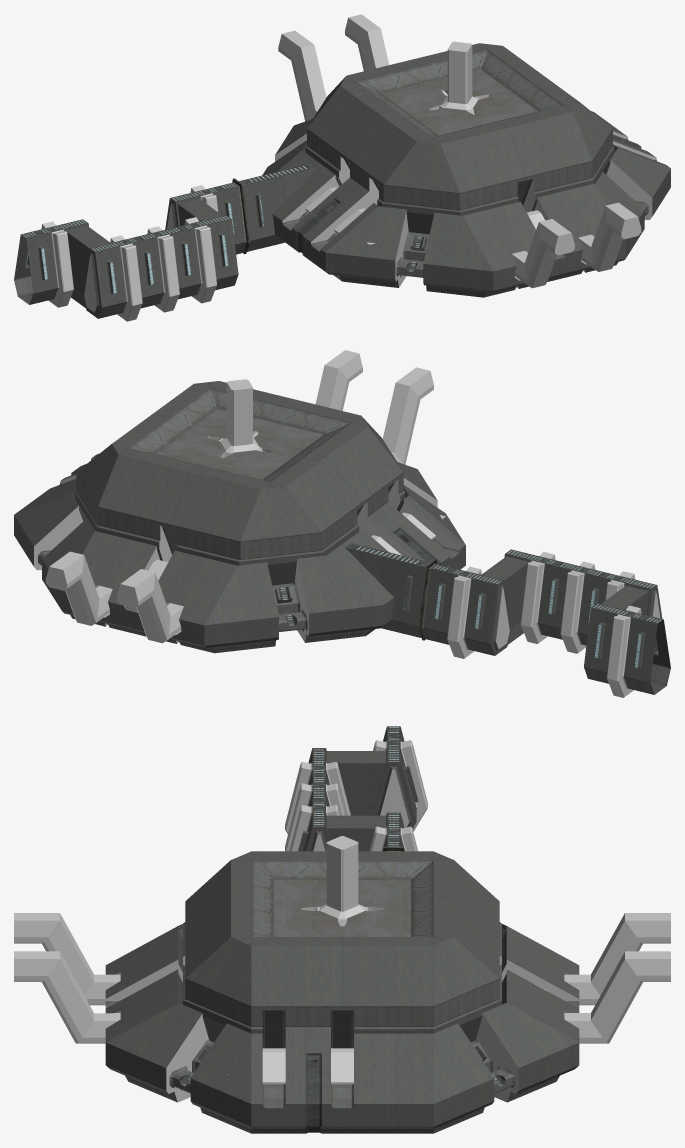
3 views of the same model, one above another, from view 1: azimuth 30°, elevation 25°; view 2: azimuth 150°, elevation 25°; view 3: azimuth 270°, elevation 25° (orthographic). The views are drawn at different scales.
Parts seen in each view (by area): view 1: -Clusters; view 2: -Clusters; view 3: -Clusters.
Part boxes in pixels (<box>): -Clusters: <box>14,14,670,321</box>; -Clusters: <box>14,350,670,697</box>; -Clusters: <box>14,726,670,1133</box>.
Size of the model in its own units: 3537 by 2883 by 1013.
